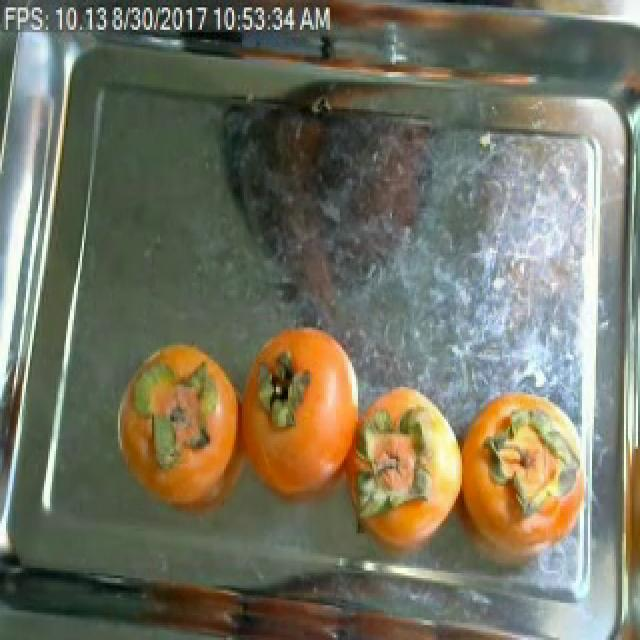Fruit: (104, 330, 250, 489), (242, 310, 370, 459)
